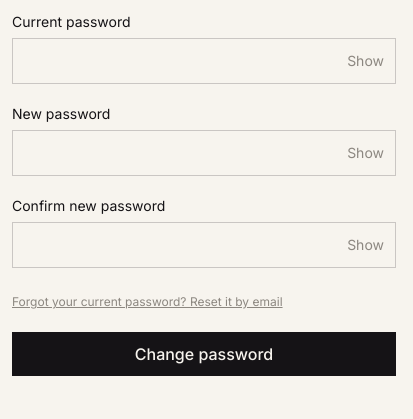
PasswordForm › rejects a confirmation that doesn't match
The image size is (413, 419).
Type "oldpassword123" into the password field labelled "Current password".
click(204, 61); type("oldpassword123")  # box [12,38,396,84]
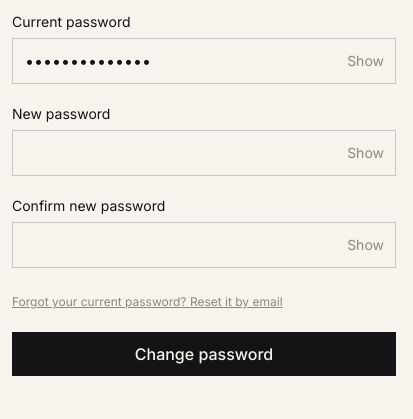
Type "newpassword456" into the password field labelled "New password".
click(204, 153); type("newpassword456")  # box [12,130,396,176]
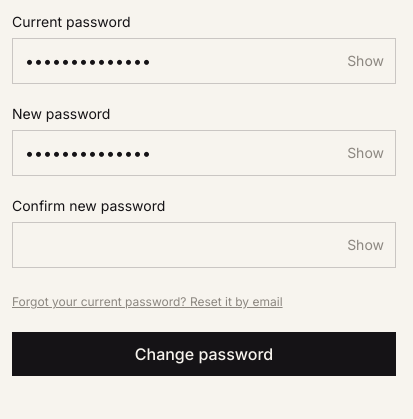
Type "newpassword789" into the password field labelled "Confirm new password".
click(204, 245); type("newpassword789")  # box [12,222,396,268]
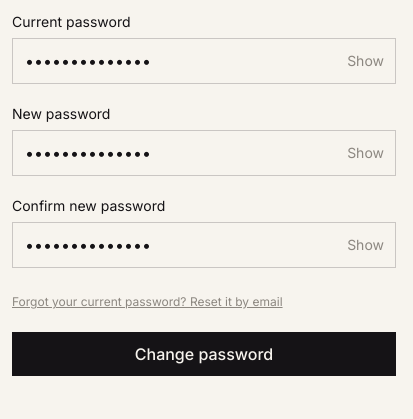
Click the button "Change password".
click(204, 354)  # box [12,332,396,376]
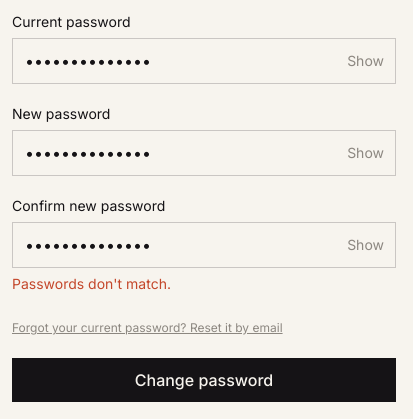
Result: the text "Passwords don't match." is shown at [12,275,171,292]
